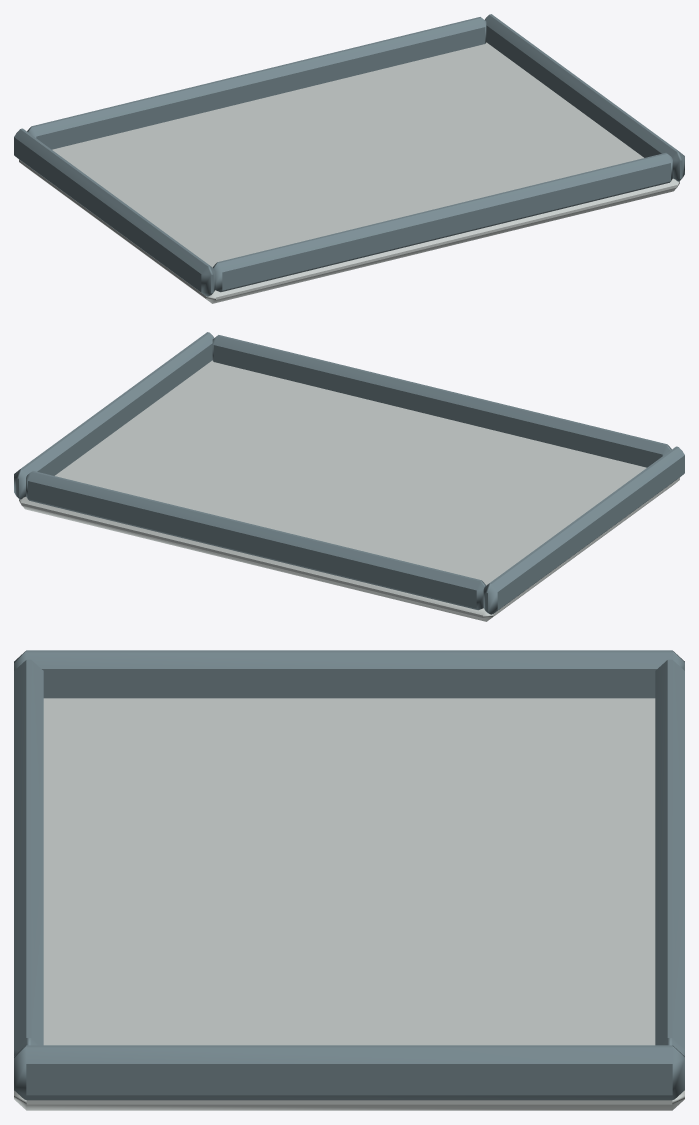
Rendered from food-tray.glb.
The picture shows the model from 3 angles, top to bottom: view 1: azimuth 30°, elevation 25°; view 2: azimuth 150°, elevation 25°; view 3: azimuth 270°, elevation 25°; orthographic projection. The views are drawn at different scales.
Parts seen in each view (by area): view 1: tray_base, raised_end.001, raised_end, raised_side, raised_side.001; view 2: tray_base, raised_end, raised_end.001, raised_side, raised_side.001; view 3: tray_base, raised_side.001, raised_side, raised_end, raised_end.001.
Part boxes in pixels (x1,y1,x2,y2): tray_base: (19,42,679,303); raised_end.001: (213,153,672,292); raised_end: (27,17,486,149); raised_side: (14,128,215,296); raised_side.001: (485,14,684,181); tray_base: (19,360,679,621); raised_end: (26,471,485,610); raised_end.001: (212,335,671,467); raised_side: (483,446,684,614); raised_side.001: (14,332,213,499); tray_base: (14,698,684,1110); raised_side.001: (14,1045,684,1100); raised_side: (14,650,684,698); raised_end: (655,659,684,1055); raised_end.001: (14,659,43,1055).
Bounding box in the file's own units: 0.388 × 0.03 × 0.27.
